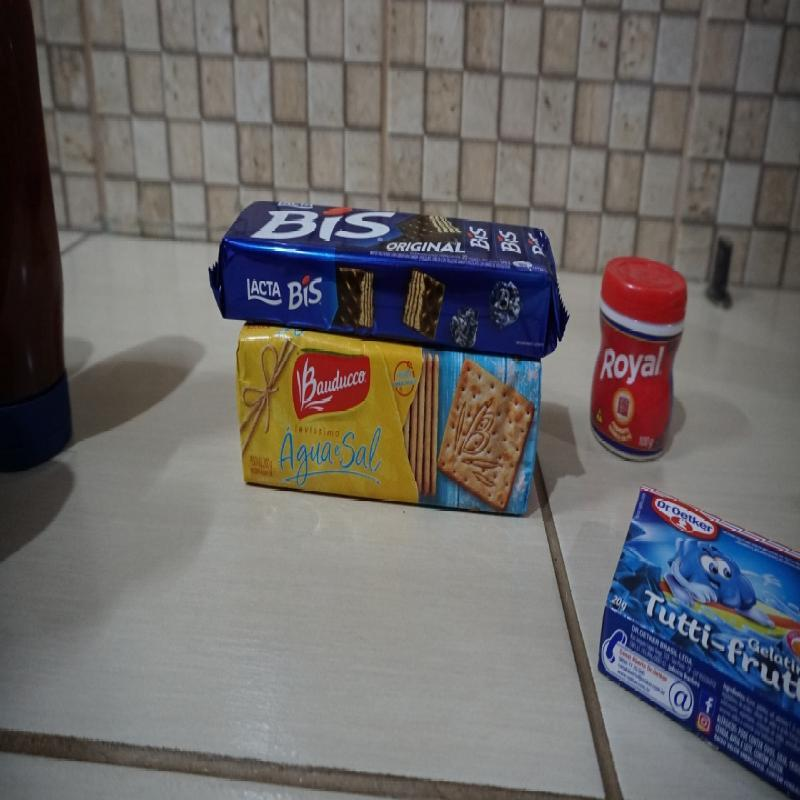Cracker: (236, 321, 542, 520)
Gelatine: (596, 483, 800, 799)
Ketchup: (0, 0, 74, 476)
Yeast: (588, 252, 689, 462)
